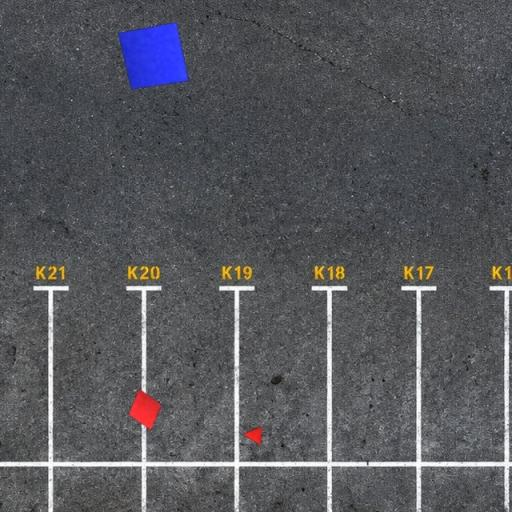BLUE_SQUARE: (118, 22, 190, 90)
RED_SQUARE: (128, 388, 162, 431)
